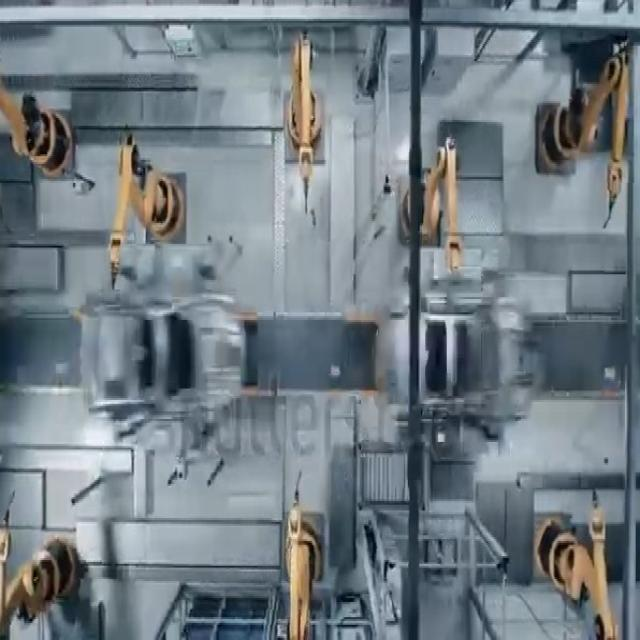auto: (371, 286, 550, 446), (75, 280, 251, 436)
robot: (532, 70, 630, 247), (102, 137, 202, 293), (532, 493, 626, 640), (400, 140, 470, 300), (0, 503, 90, 626), (278, 461, 338, 640), (280, 40, 336, 218), (11, 100, 76, 184)
